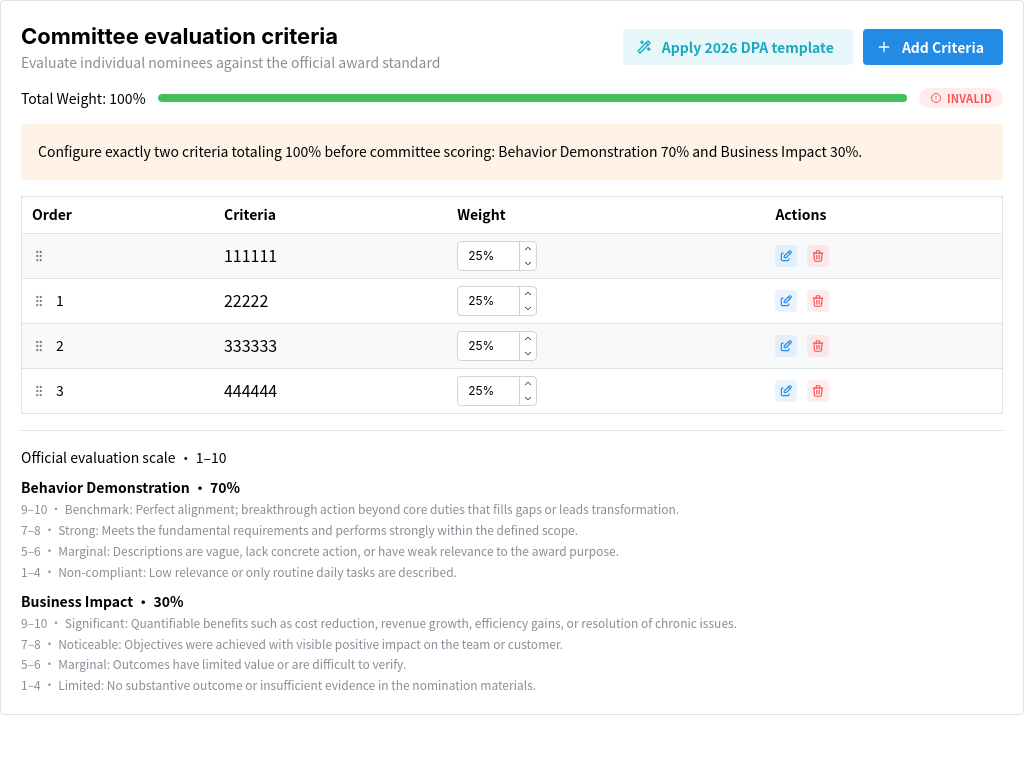
Test case: shows the four invalid test criteria and replaces them only after confirmation
The width and height of the screenshot is (1024, 762).
expect the text "111111" is shown: met, box top-left (224, 243), bottom-right (277, 267)
expect the text "Invalid" is shown: met, box top-left (947, 89), bottom-right (992, 107)
Click the button "Apply 2026 DPA template". click: (738, 46)
box: top-left (623, 28), bottom-right (853, 64)
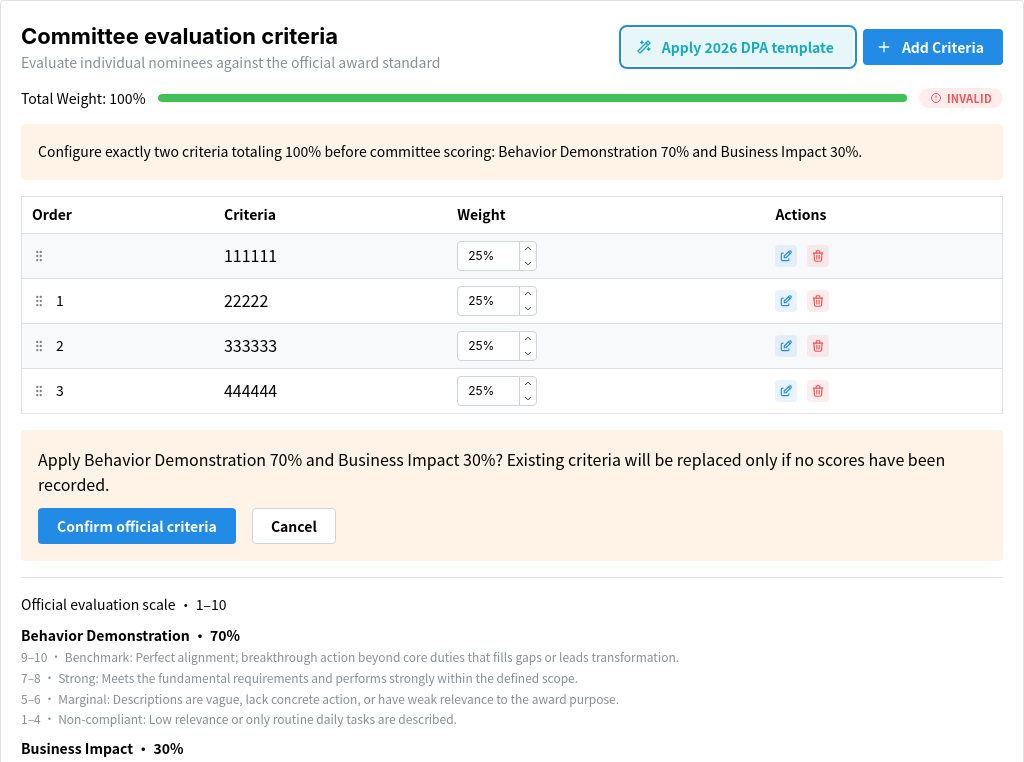
Click the button "Confirm official criteria". click: (137, 526)
box: top-left (38, 508), bottom-right (236, 544)
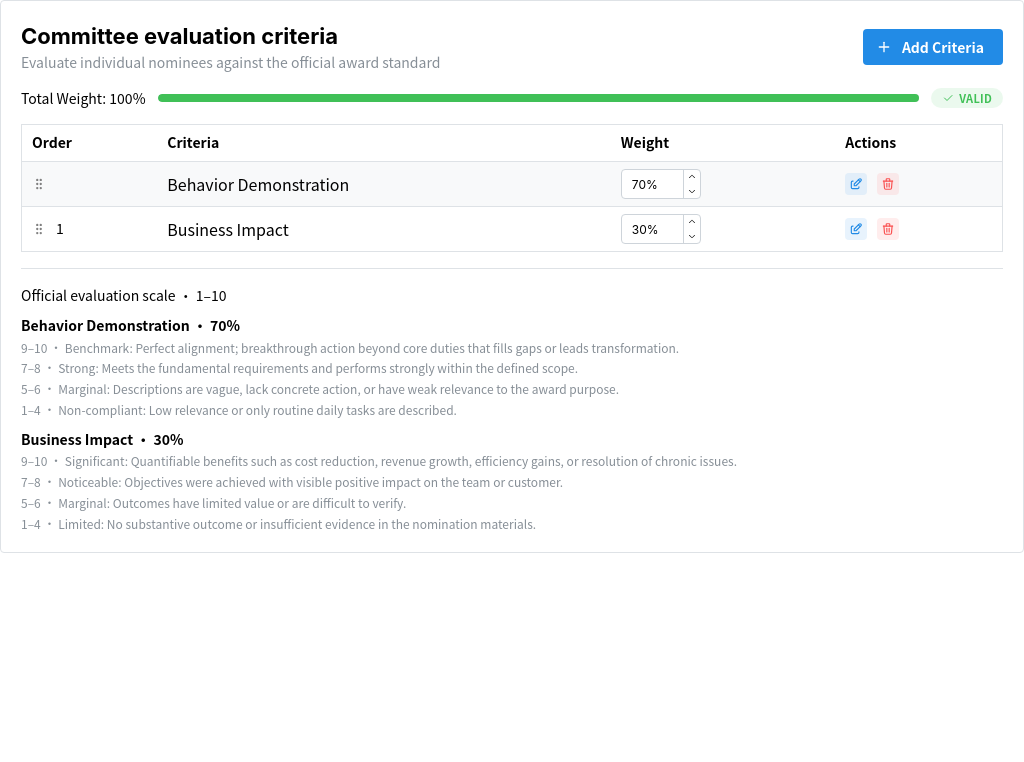
expect the text "Valid" is shown: met, box top-left (959, 89), bottom-right (992, 107)
expect the text "111111" is gone: met
